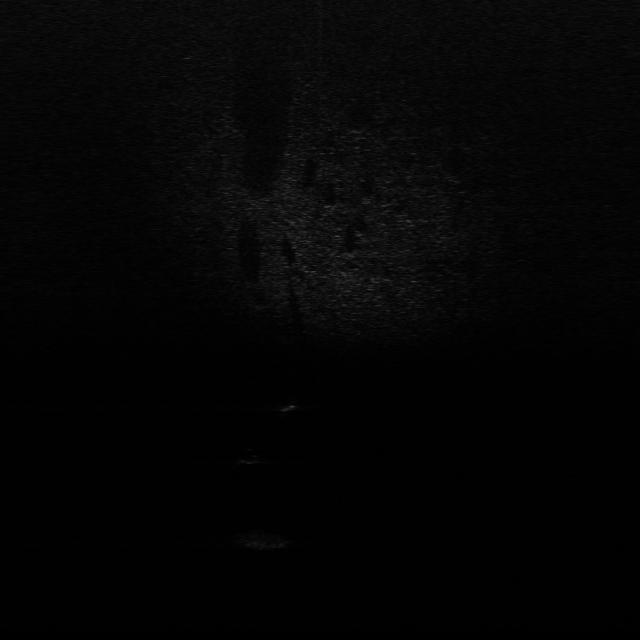ball: (233, 446, 263, 466)
circle cage: (236, 529, 293, 552)
human body: (276, 395, 306, 423)
